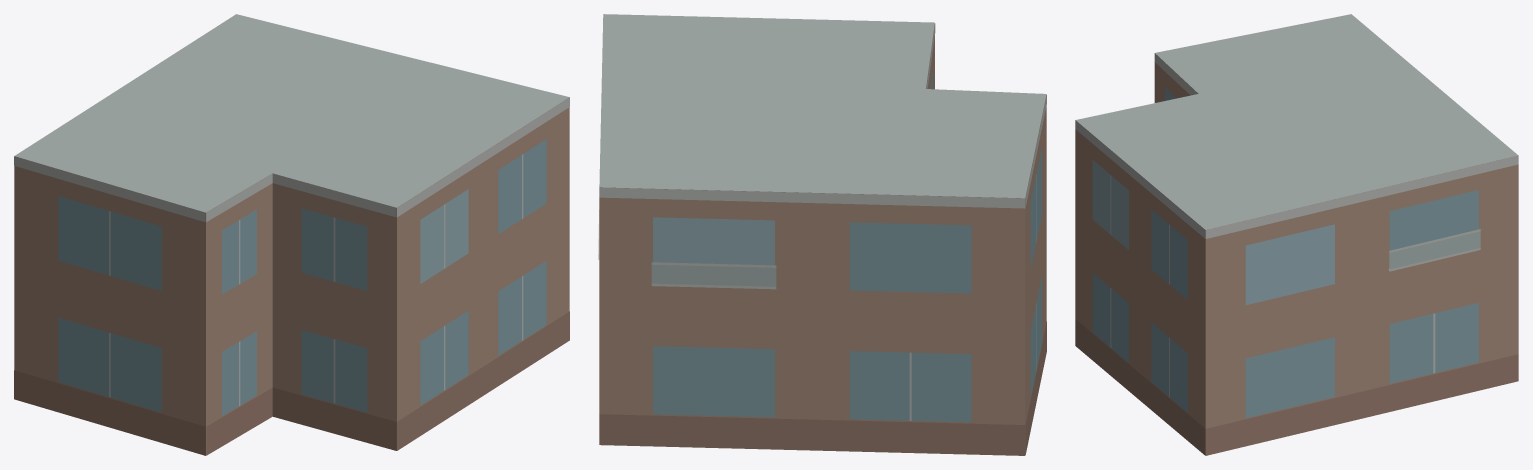
Rendered from survey-upis-32893149.glb.
3 renders of one model, left to right at view 1: azimuth 30°, elevation 25°; view 2: azimuth 150°, elevation 25°; view 3: azimuth 270°, elevation 25°, orthographic. The views are drawn at different scales.
Parts seen in each view (by area): view 1: survey-upis-32893149.tmp; view 2: survey-upis-32893149.tmp; view 3: survey-upis-32893149.tmp.
Part boxes in pixels (<box>): survey-upis-32893149.tmp: <box>14,14,569,455</box>; survey-upis-32893149.tmp: <box>598,14,1046,455</box>; survey-upis-32893149.tmp: <box>1075,14,1518,455</box>.
Bounding box in the file's own units: 12.53 × 6.1 × 10.86.
